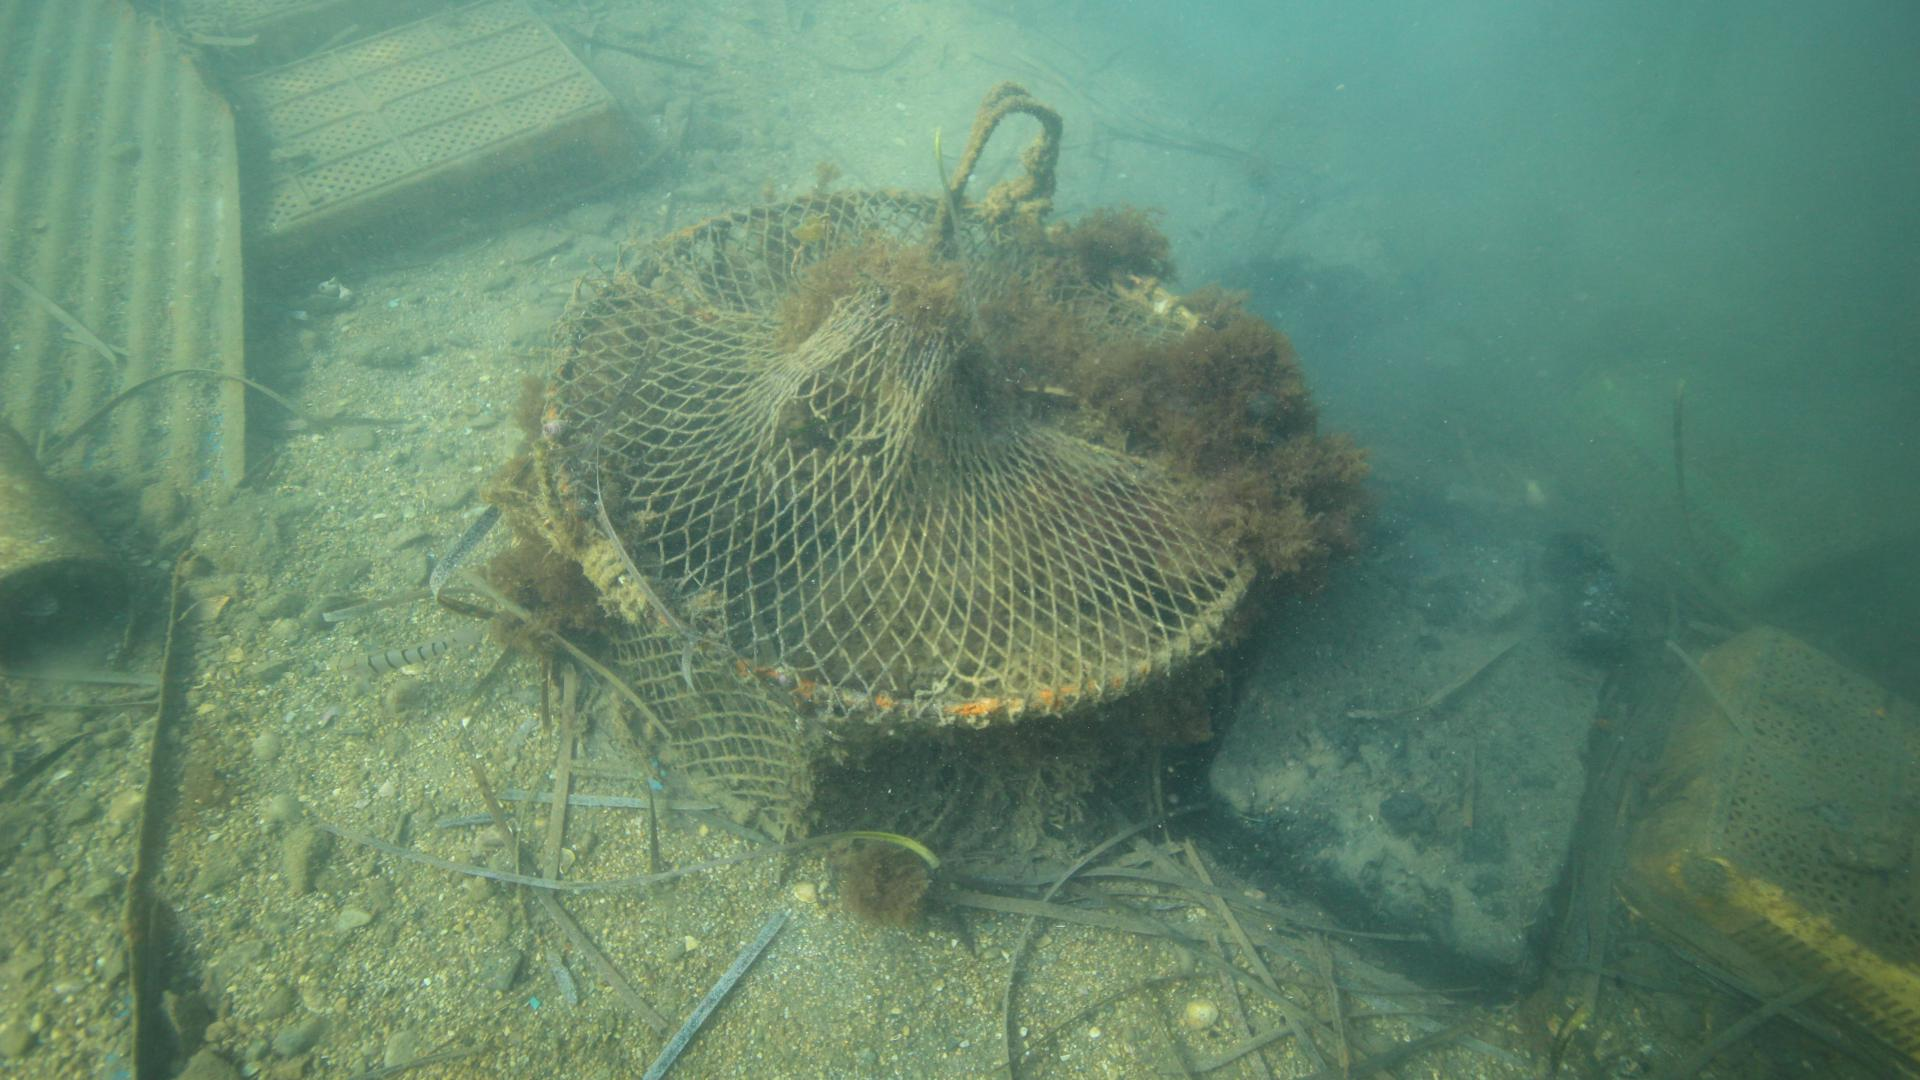bundle of ropes: (928, 79, 1065, 252)
circular fish trap: (542, 187, 1266, 843)
